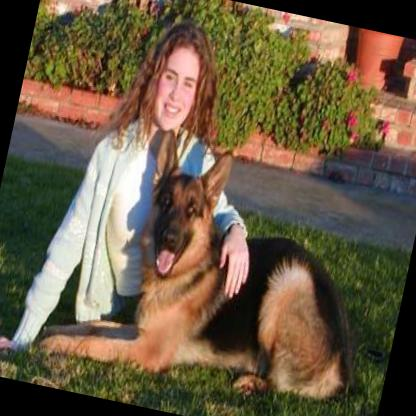German_shepherd: (32, 108, 401, 416)
